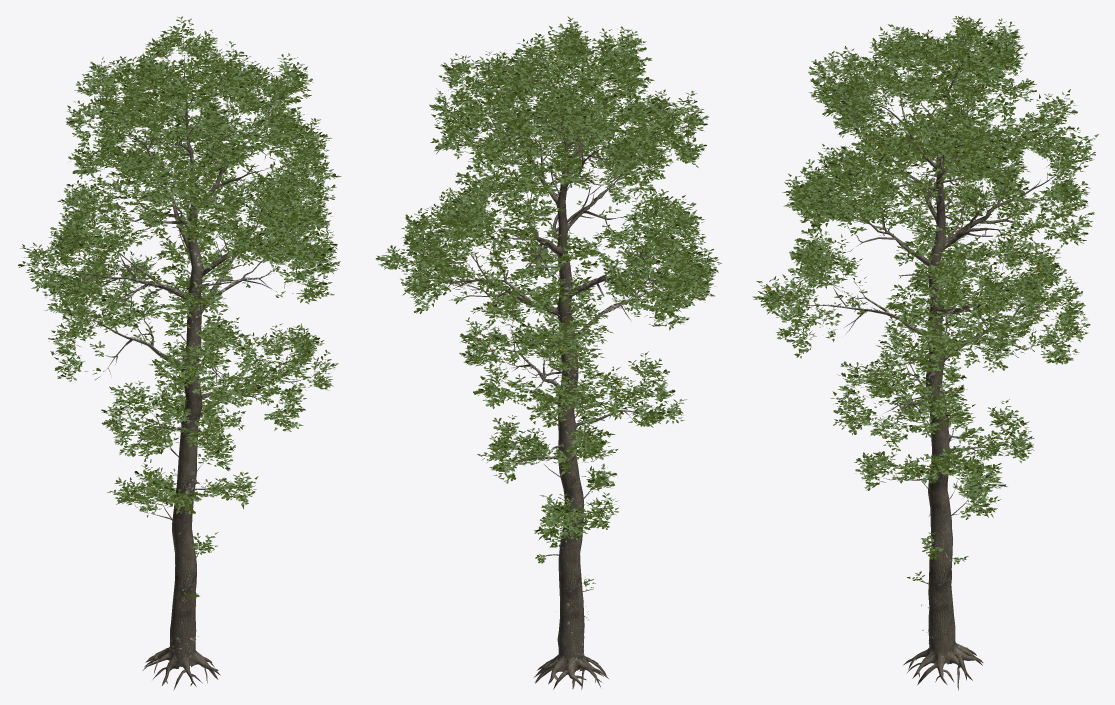
Rendered from quercus-robur-colonised-ld-s29.glb.
3 renders of one model, left to right at view 1: azimuth 30°, elevation 25°; view 2: azimuth 150°, elevation 25°; view 3: azimuth 270°, elevation 25°, orthographic. The views are drawn at different scales.
Visible parts, largest first — view 1: ForestPlantCatalog_quercus-robur-colonised-ld-s29; view 2: ForestPlantCatalog_quercus-robur-colonised-ld-s29; view 3: ForestPlantCatalog_quercus-robur-colonised-ld-s29.
Part boxes in pixels (bbox=[...]): ForestPlantCatalog_quercus-robur-colonised-ld-s29: bbox=[18, 16, 341, 690]; ForestPlantCatalog_quercus-robur-colonised-ld-s29: bbox=[375, 16, 721, 689]; ForestPlantCatalog_quercus-robur-colonised-ld-s29: bbox=[752, 16, 1098, 690].
Bounding box in the file's own units: 7.35 × 15 × 7.12.
19 materials, 19 textured.
